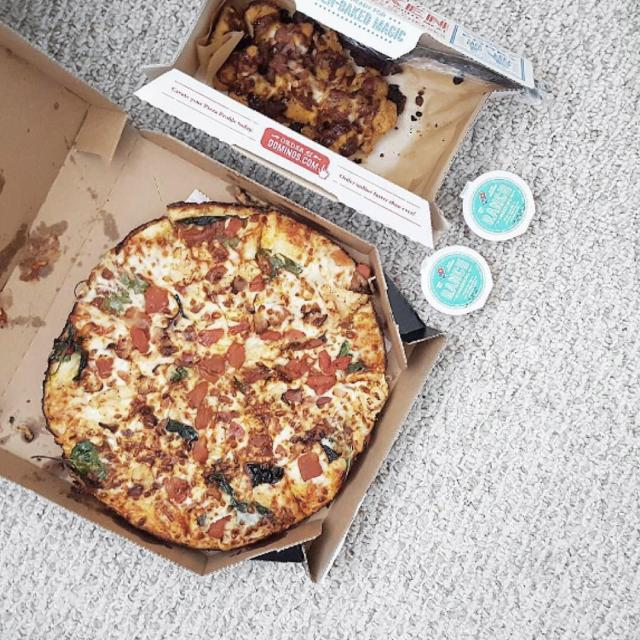basil: (59, 442, 112, 480), (53, 324, 88, 379), (208, 469, 240, 510), (244, 460, 286, 488), (163, 418, 200, 447), (336, 342, 366, 374), (318, 438, 343, 466), (250, 497, 271, 525), (167, 363, 187, 382)
pepperoni: (183, 380, 214, 429), (238, 359, 294, 385), (292, 448, 324, 483), (301, 367, 337, 395), (317, 351, 352, 375), (142, 283, 170, 313), (200, 351, 223, 385), (163, 474, 189, 501), (126, 323, 149, 353), (288, 353, 314, 379), (196, 325, 224, 348), (94, 351, 114, 380), (283, 386, 309, 408), (226, 341, 245, 369), (192, 436, 209, 464), (229, 318, 254, 337), (175, 347, 196, 368), (258, 325, 281, 342), (248, 273, 265, 294), (302, 339, 326, 349)
pizza: (41, 199, 392, 555), (208, 0, 398, 160)
